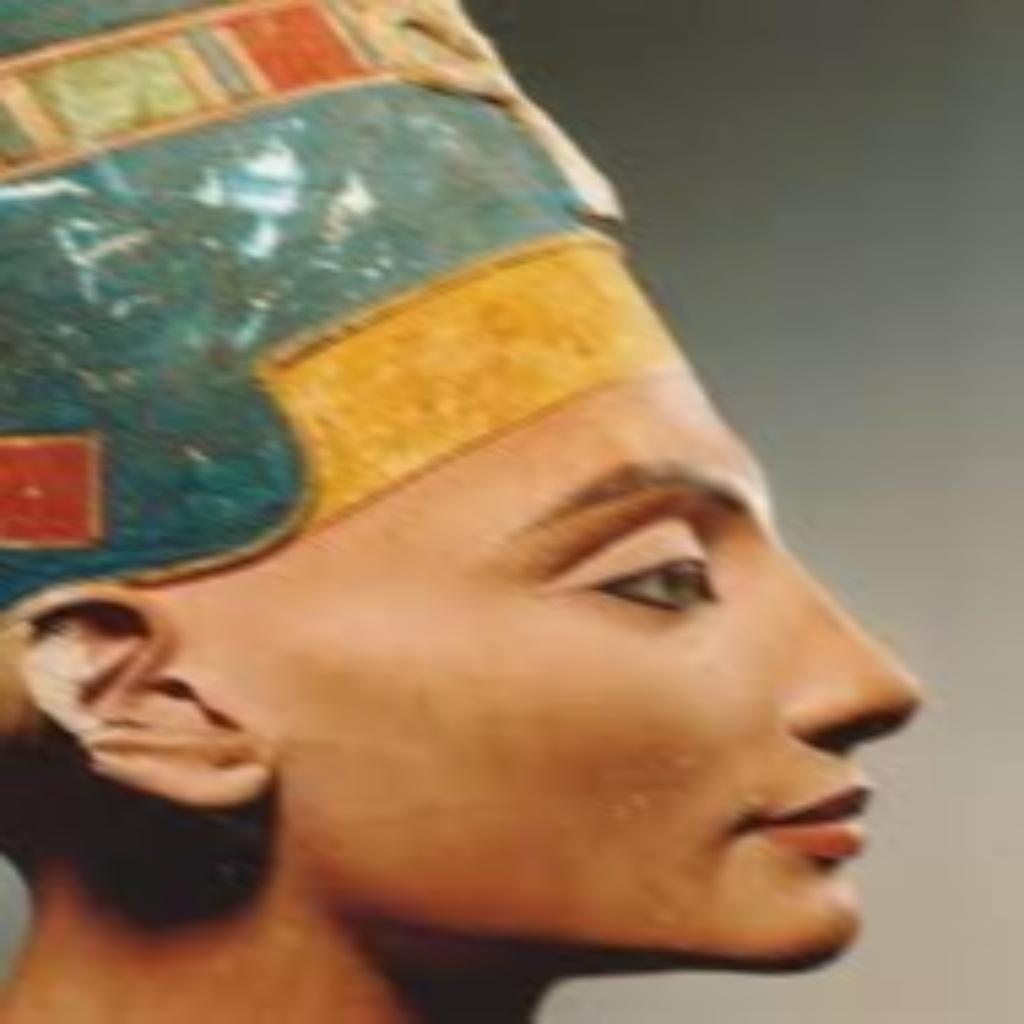Nefertiti: (0, 0, 932, 1020)
